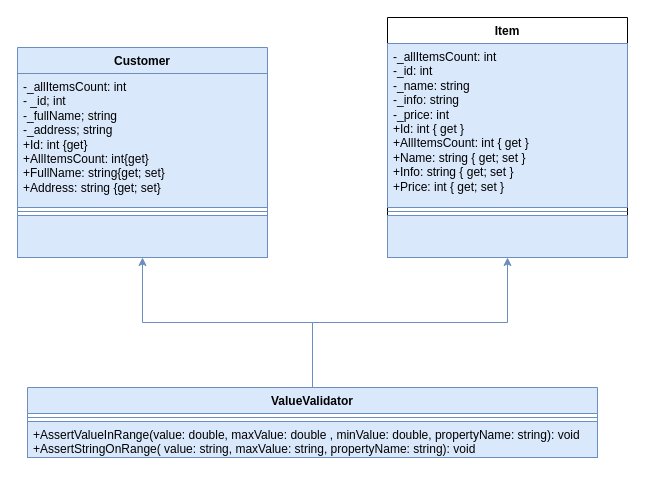
This 645x478 diagram has some shape labels left out. Here are the shapes that lost their labels. From the top down, the centre of each, then its label:
the point at 142,236: +Customer() +Customer(fullName: string; address: string)
the point at 507,236: +Item() +Item(name: string , info: string , price: int)
